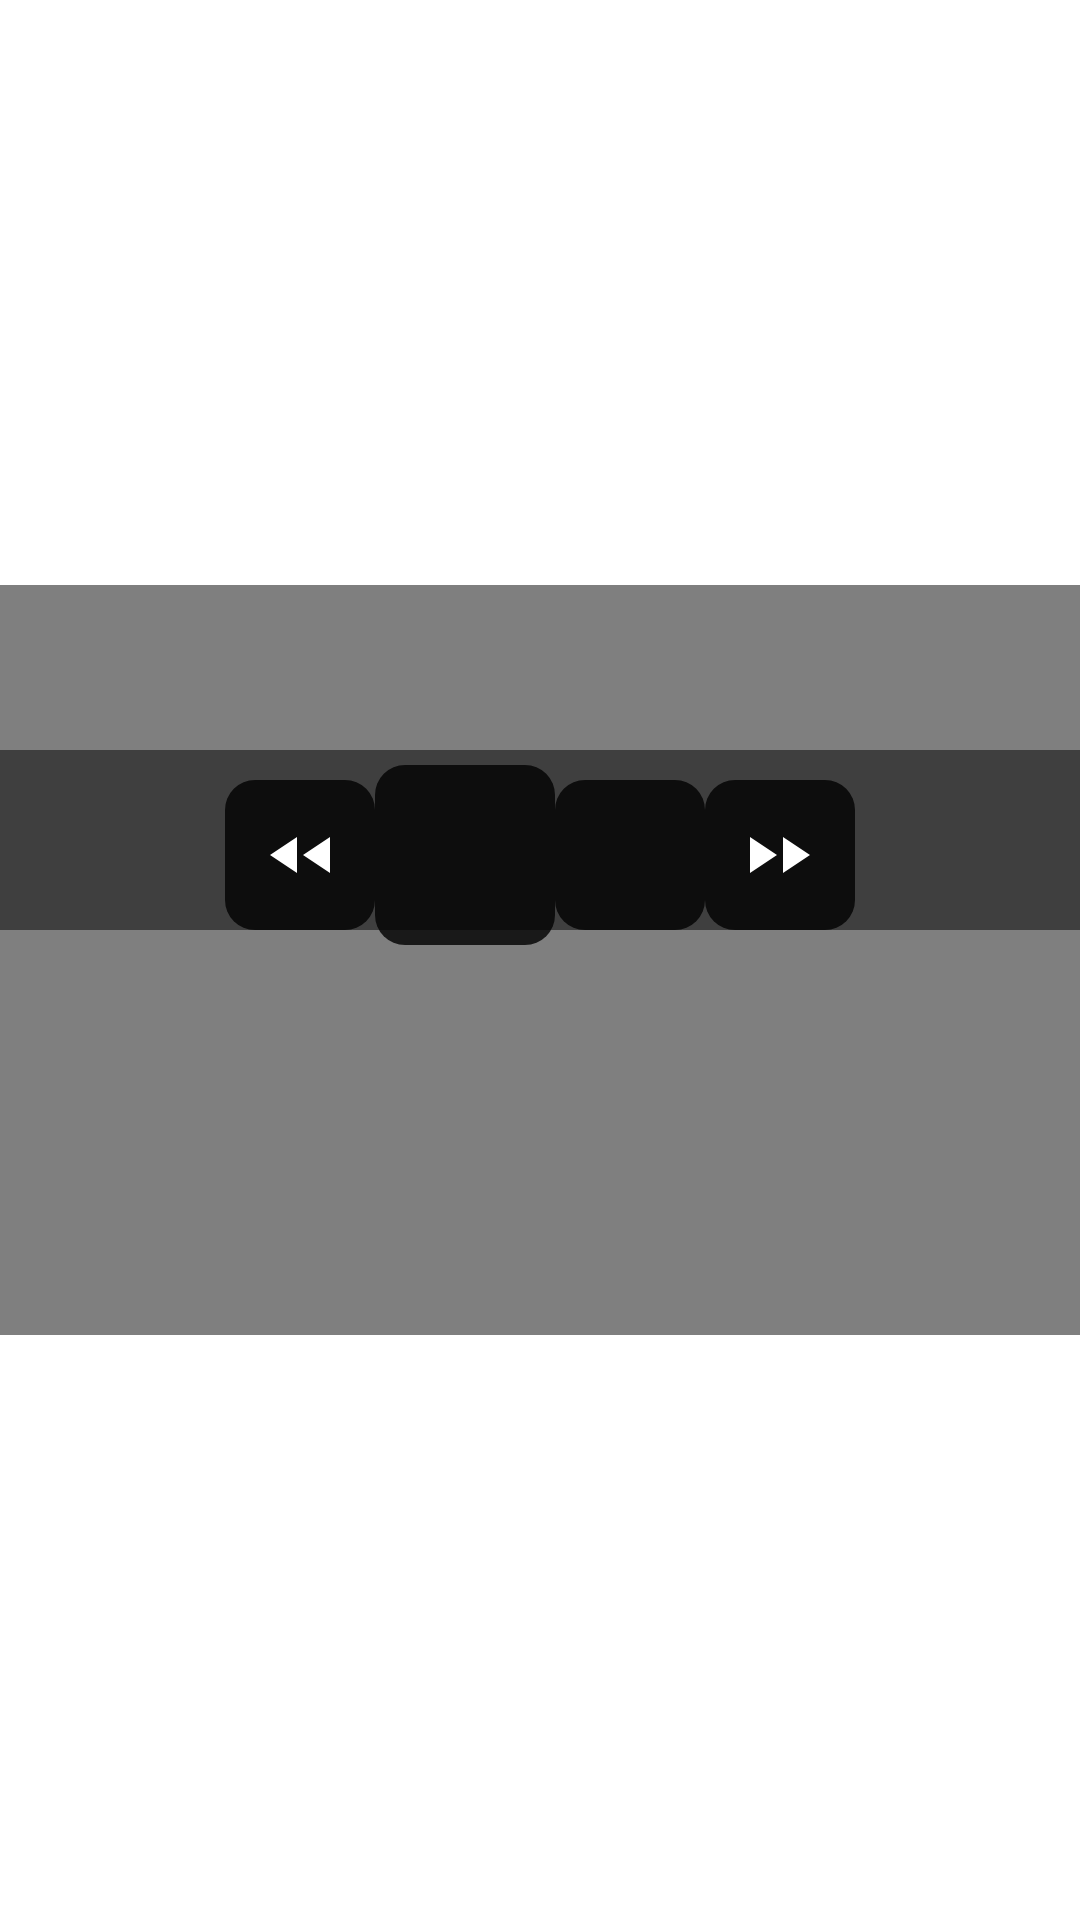

Named icons in this screenshot (1080px×1920px) and their centers, [x,y]:
Fast Forward: [780,855]
Rewind: [300,855]
